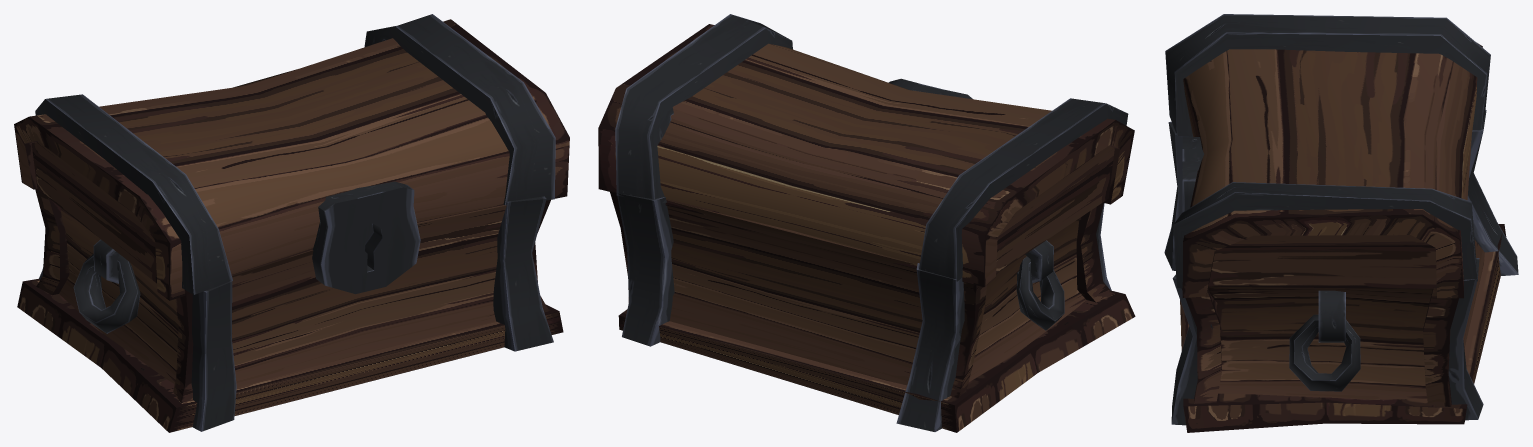
The model's file is SM_PROP_chest_dungeon_04.fbx.
3 renders of one model, left to right at view 1: azimuth 30°, elevation 25°; view 2: azimuth 150°, elevation 25°; view 3: azimuth 270°, elevation 25°, orthographic.
Visible parts, largest first — view 1: SM_PROP_chest_top_dungeon_04, SM_PROP_chest_dungeon_04; view 2: SM_PROP_chest_top_dungeon_04, SM_PROP_chest_dungeon_04; view 3: SM_PROP_chest_top_dungeon_04, SM_PROP_chest_dungeon_04.
Boxes of the visible parts, bbox=[...] form: SM_PROP_chest_top_dungeon_04: bbox=[14, 14, 569, 300]; SM_PROP_chest_dungeon_04: bbox=[17, 189, 563, 432]; SM_PROP_chest_top_dungeon_04: bbox=[598, 14, 1134, 287]; SM_PROP_chest_dungeon_04: bbox=[610, 192, 1135, 432]; SM_PROP_chest_top_dungeon_04: bbox=[1165, 14, 1490, 298]; SM_PROP_chest_dungeon_04: bbox=[1164, 110, 1518, 432].
Size of the model in its own units: 76.08 by 41.79 by 57.55.
